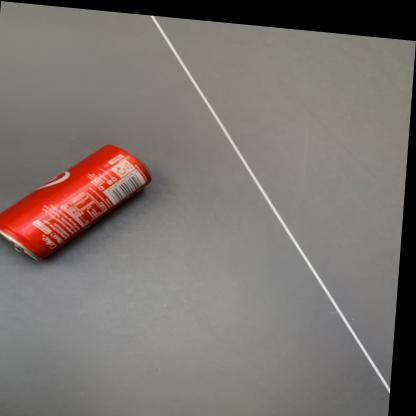trash: (0, 145, 150, 260)
